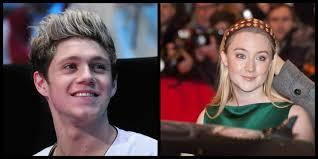Persons: (28, 8, 126, 132), (214, 21, 287, 105)
